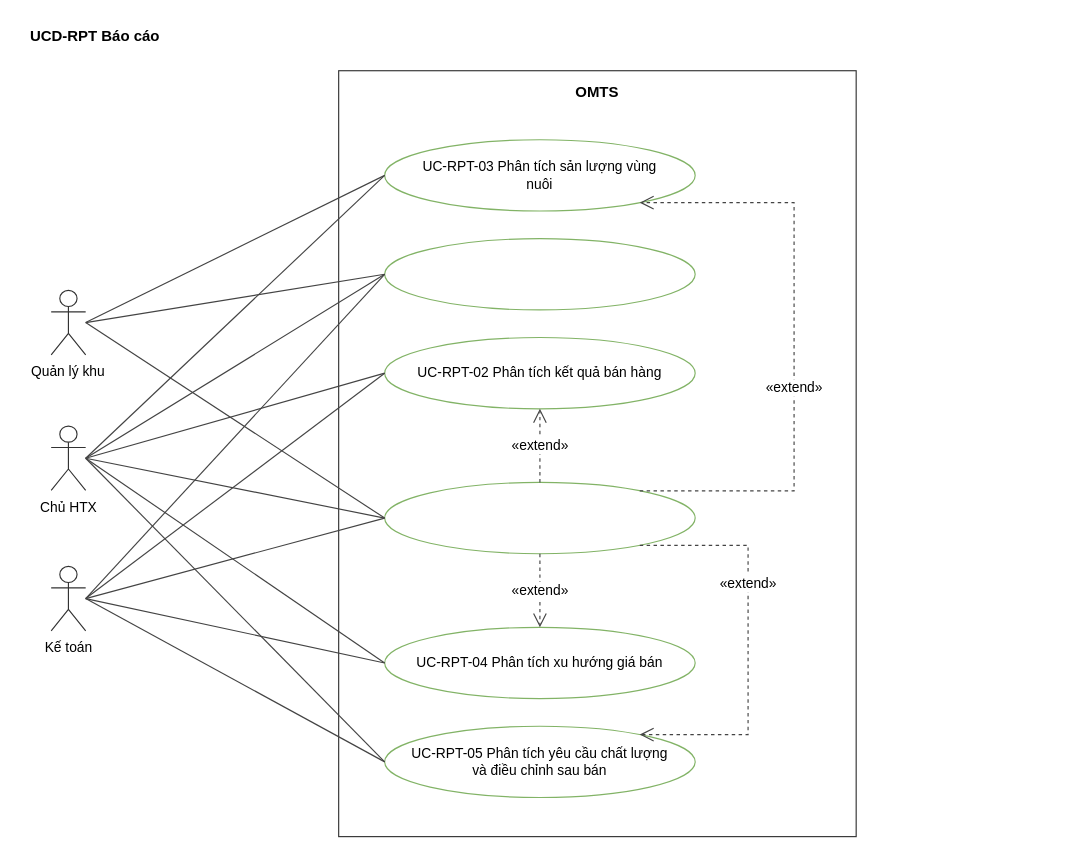
The diagram is 1082 pixels wide and 857 high, and some of its shapes have lost their labels. The centre of each missing label's shape, as x and y in pixels:
"UC-RPT-01 Xem bảng điều hành" goes at (x=539, y=273).
"UC-RPT-06 Xuất báo cáo" goes at (x=539, y=517).
